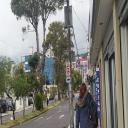NoEstacionar: (64, 59, 72, 84)
